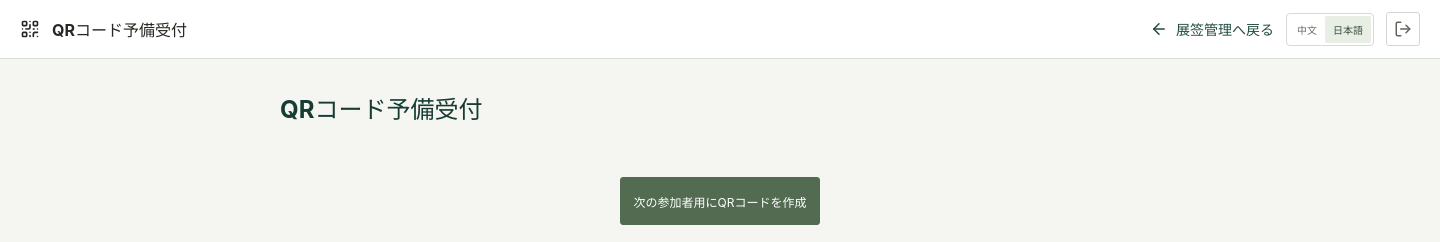
Scenario: QR fallback page › fails closed when it cannot persist the idempotency key
Click the button "次の参加者用にQRコードを作成".
click(720, 201)  # box [620,177,820,225]
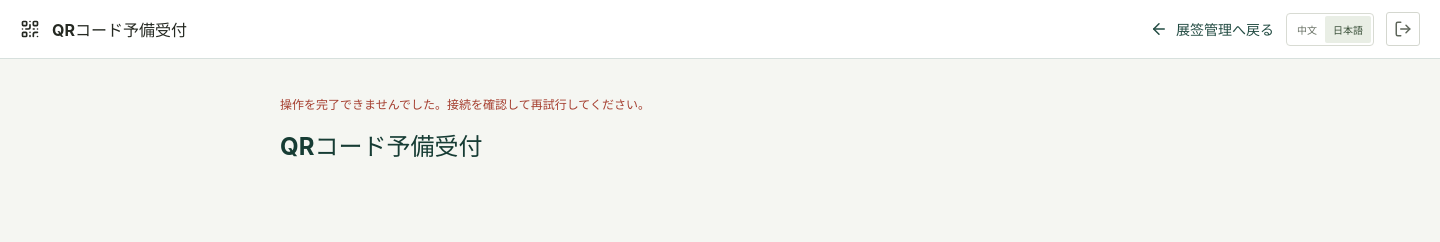
Now the message reads "操作を完了できませんでした。接続を確認して再試行してください。", box [280,97,650,112]
